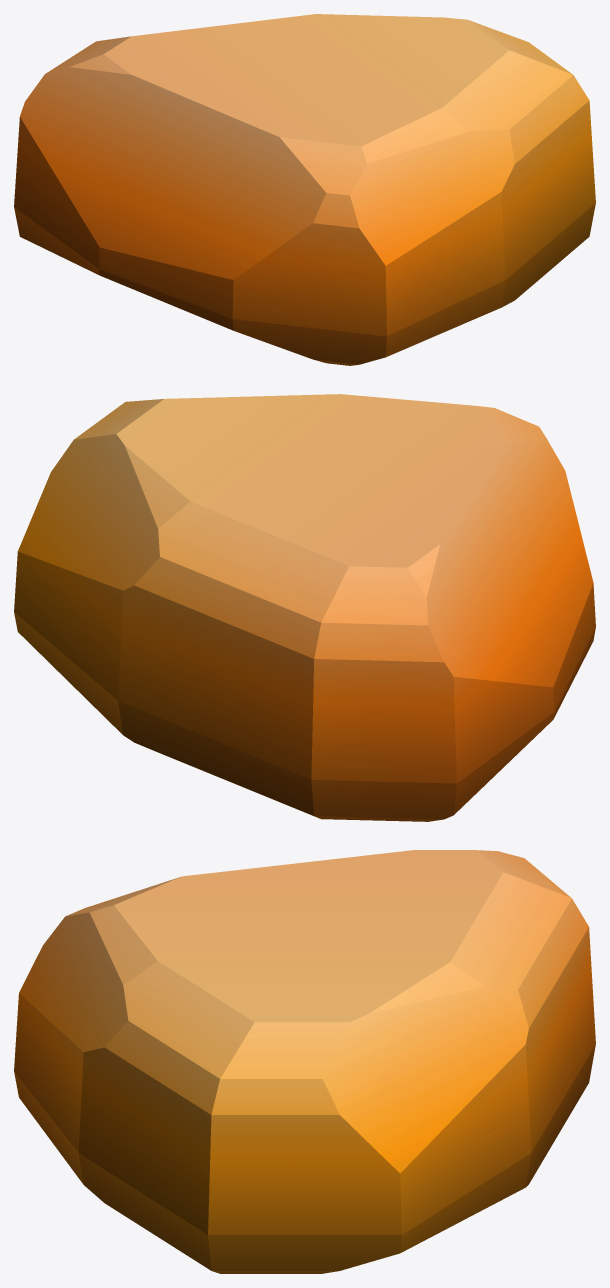
The model's file is boulder2.FBX.
3 views of the same model, one above another, from view 1: azimuth 30°, elevation 25°; view 2: azimuth 150°, elevation 25°; view 3: azimuth 270°, elevation 25° (orthographic). The views are drawn at different scales.
Visible parts, largest first — view 1: rock007; view 2: rock007; view 3: rock007.
Part boxes in pixels (x1,y1,x2,y2): rock007: [14, 14, 595, 365]; rock007: [14, 394, 595, 821]; rock007: [14, 850, 595, 1273].
Size of the model in its own units: 0.9 by 0.9 by 0.399.
1 material, 1 textured.
